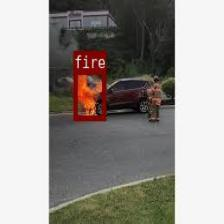fire: (73, 68, 105, 120)
